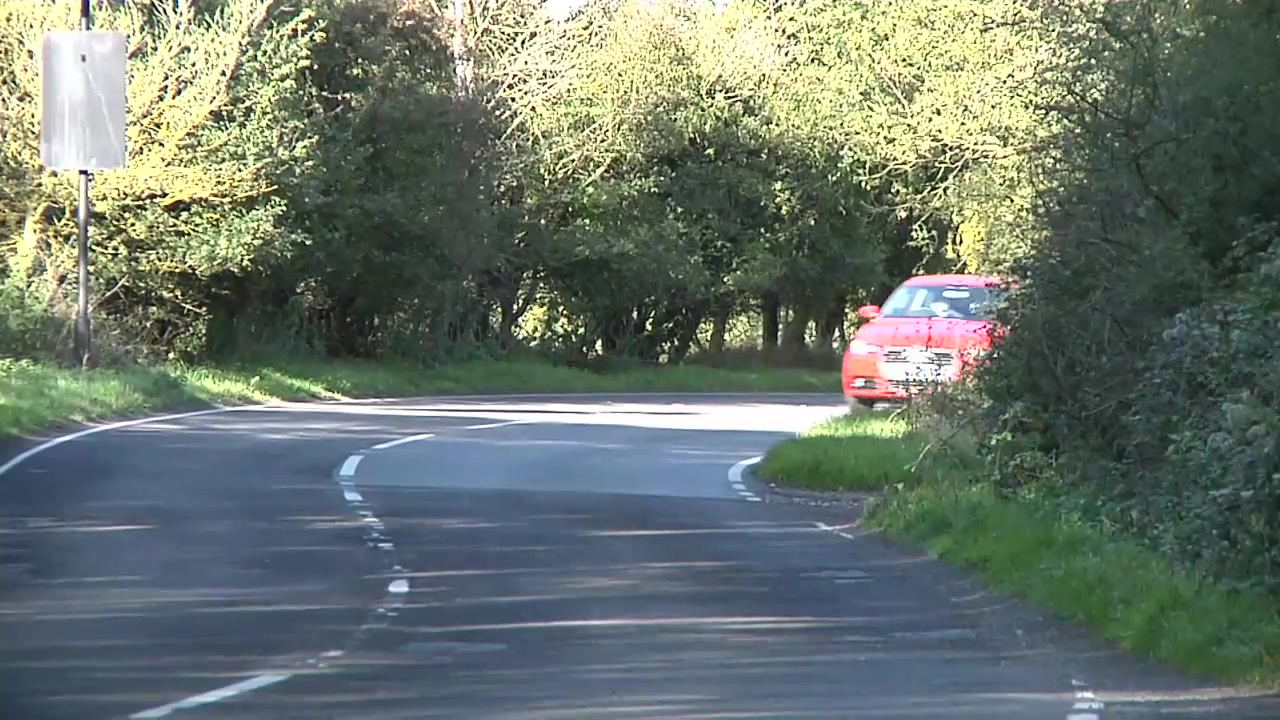car: (839, 265, 1032, 416)
